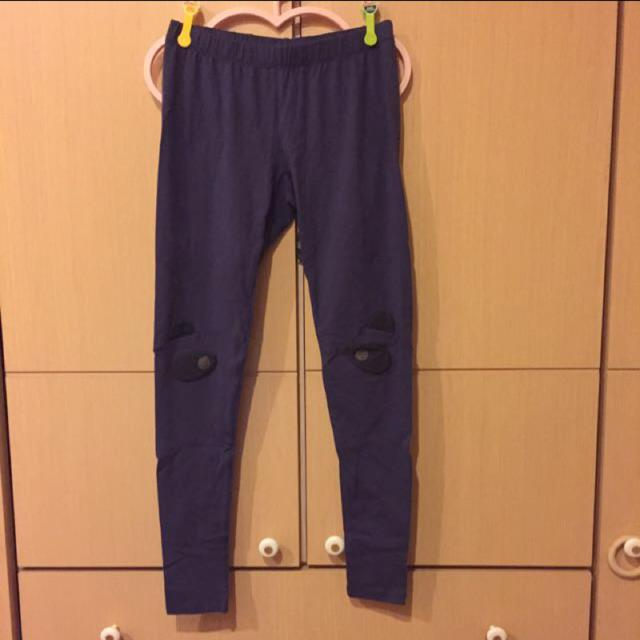Pants_Leggings: (167, 18, 418, 605)
